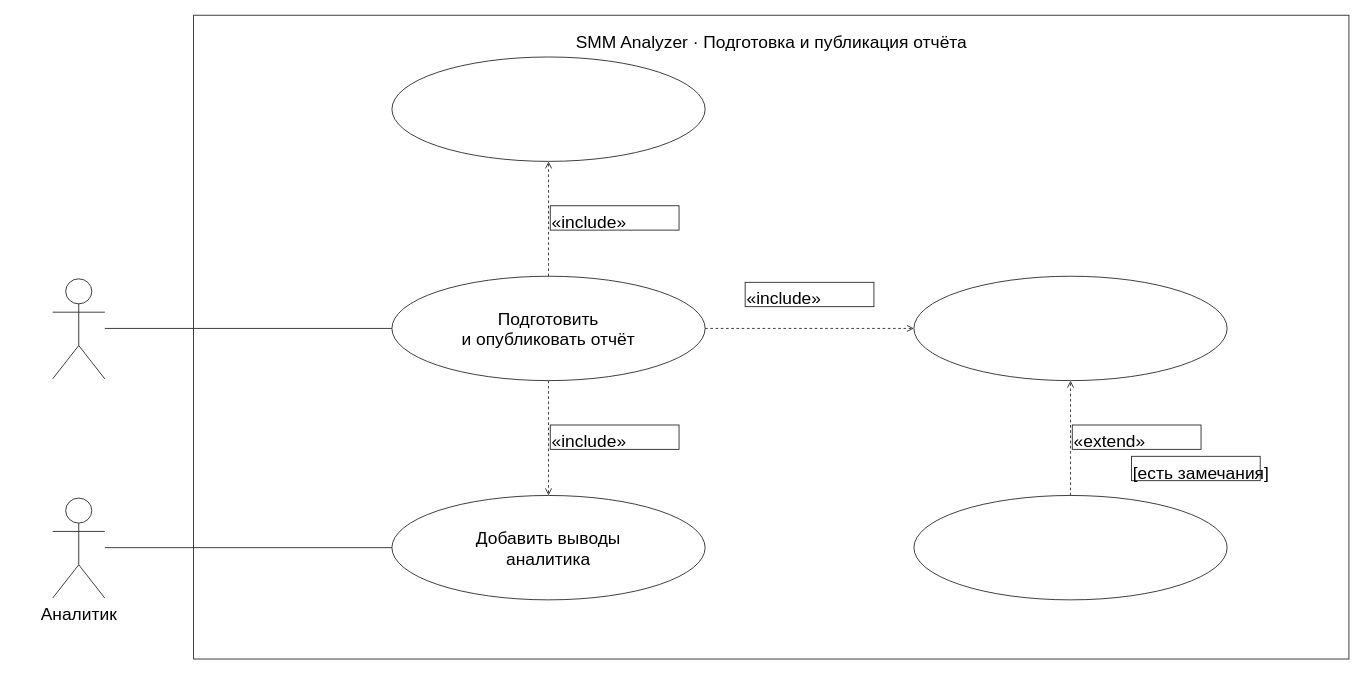
This 1364x674 diagram has some shape labels left out. Here are the shapes that lost their labels. From the top down, the centre of each, then its label:
At pixel 548 108: "Сформировать черновик отчёта".
At pixel 78 328: "SMM-менеджер".
At pixel 1070 328: "Проверить и опубликовать отчёт".
At pixel 1070 547: "Вернуть черновик на исправление".
